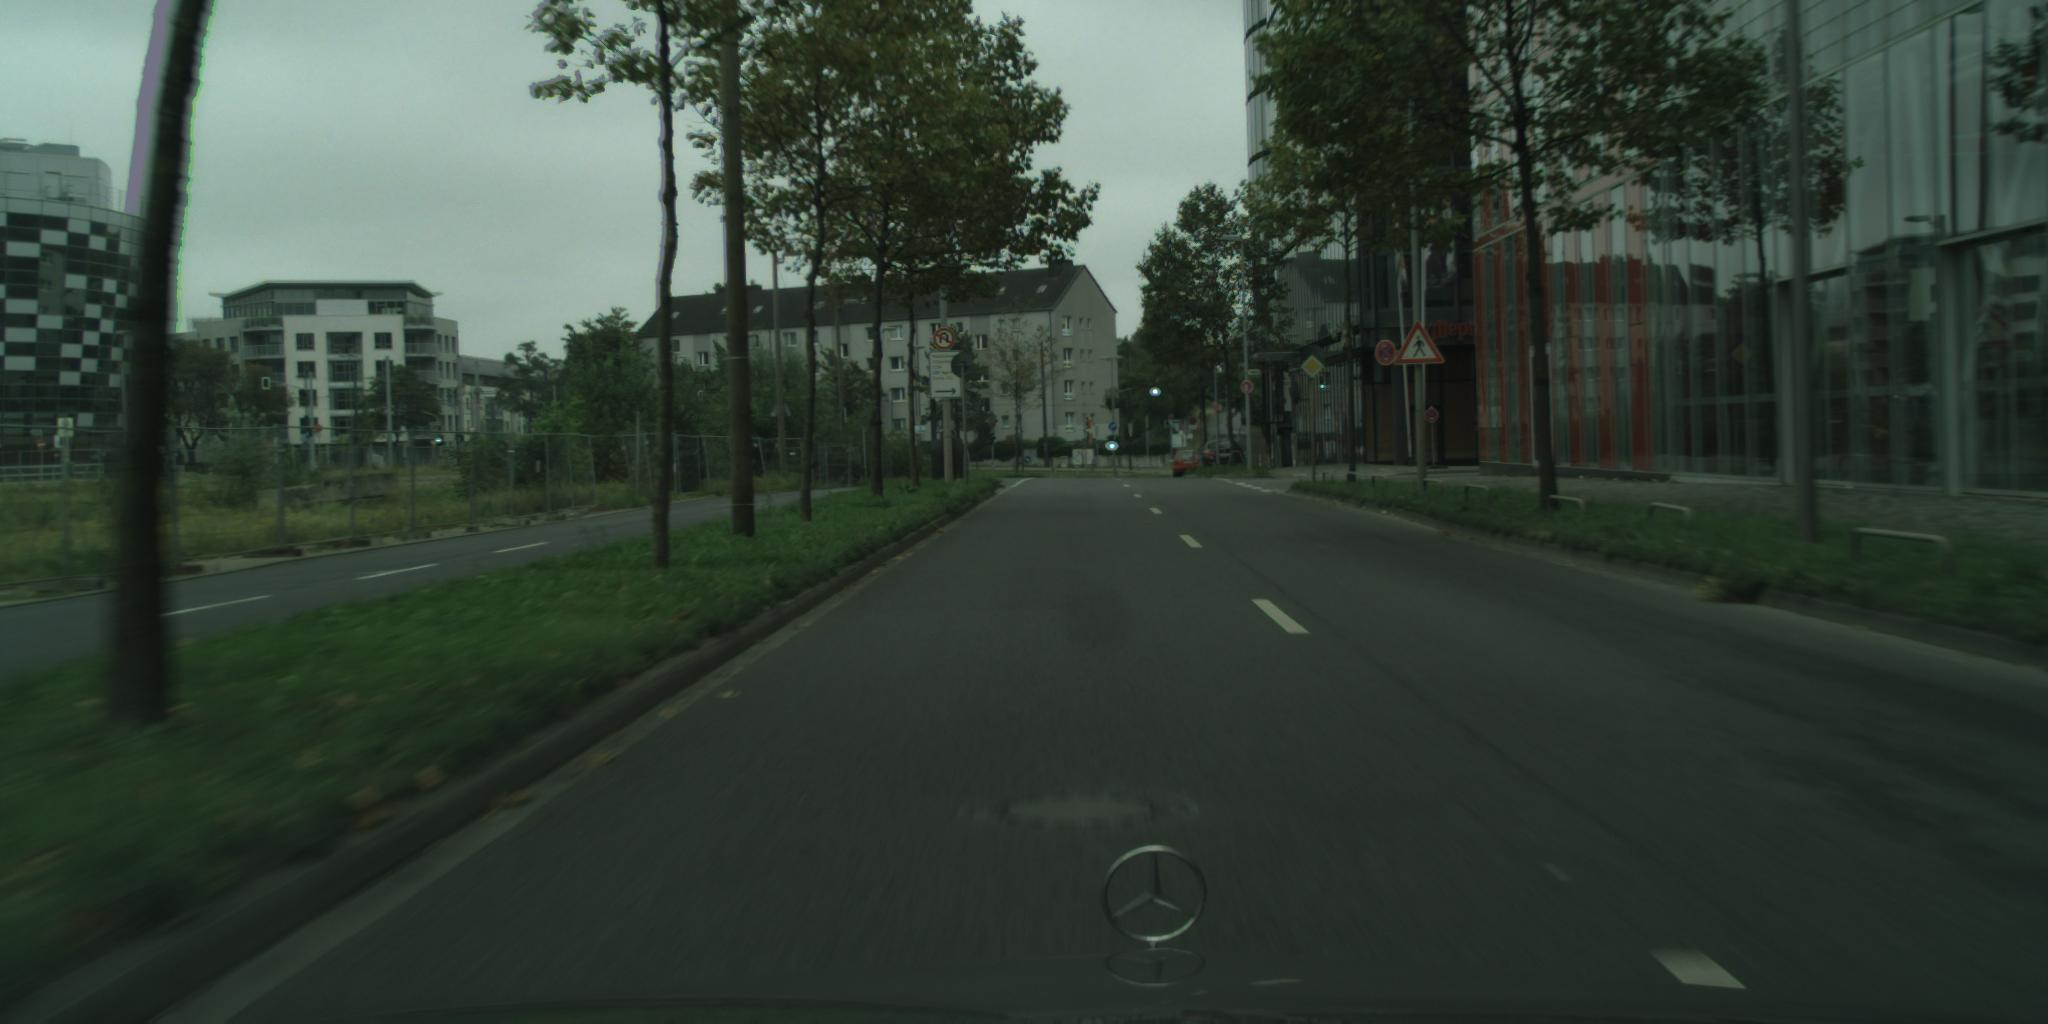car: (1202, 440, 1246, 470), (1173, 451, 1203, 478)
